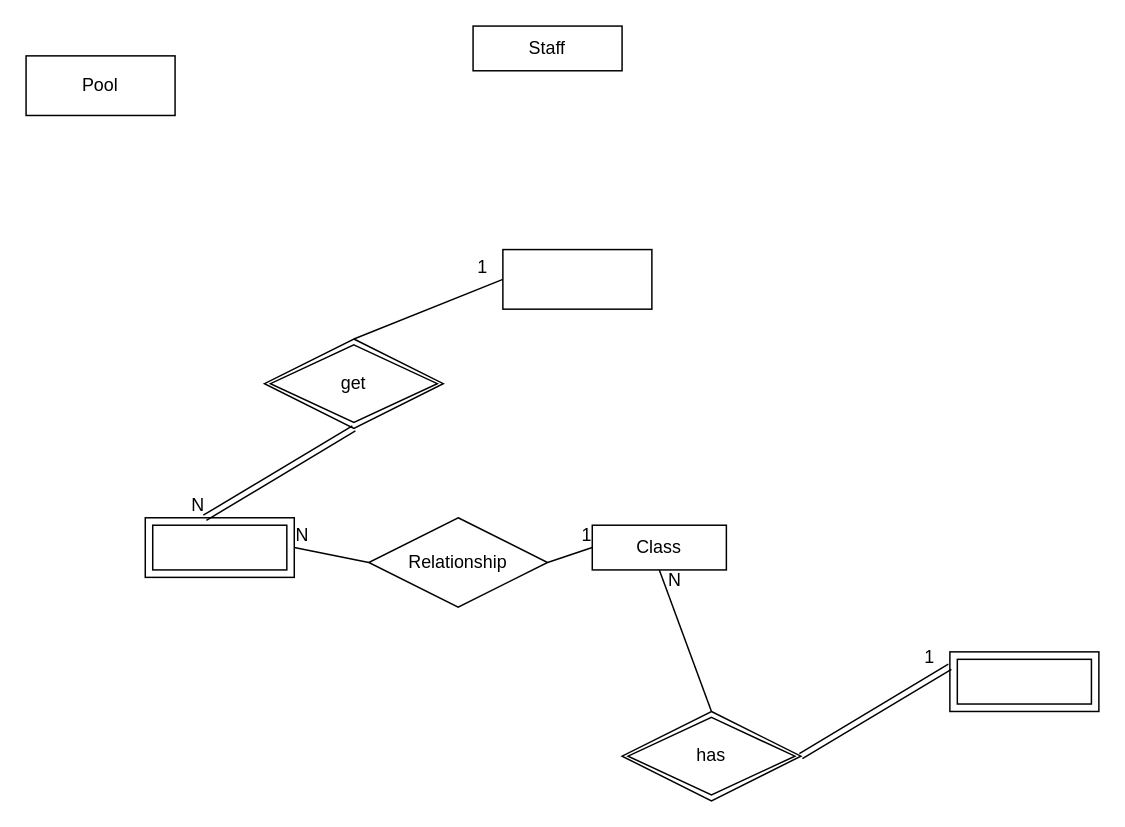
Image size: 1125x827. Some labels were removed from this diagram. Here are the shapes that lost their labels. From the top down, the centre of each, then its label:
At pixel 576 278: "Student".
At pixel 219 546: "Enrollment".
At pixel 1023 680: "Level".
